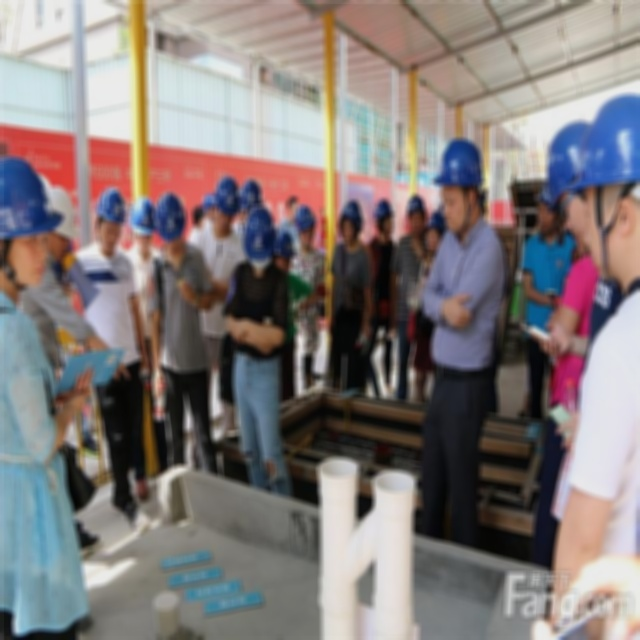Con_Casco: (437, 141, 489, 227), (244, 205, 277, 275)
